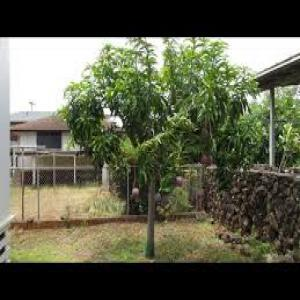Tree: (61, 38, 255, 256)
